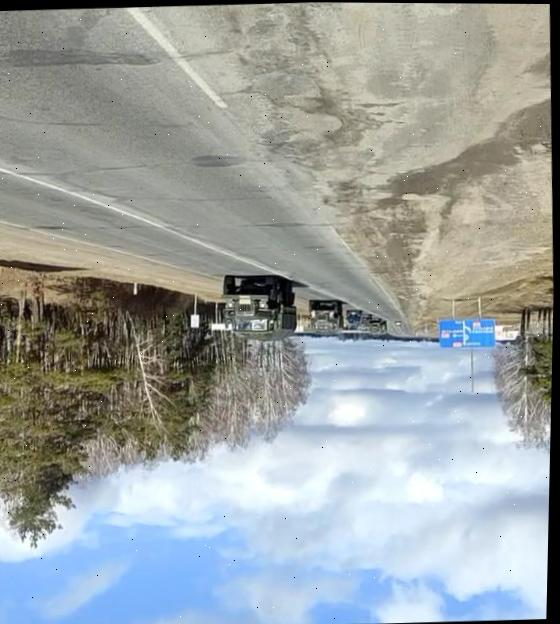car: (392, 319, 401, 327)
truck: (216, 267, 302, 343), (306, 292, 343, 336), (358, 312, 376, 337)
